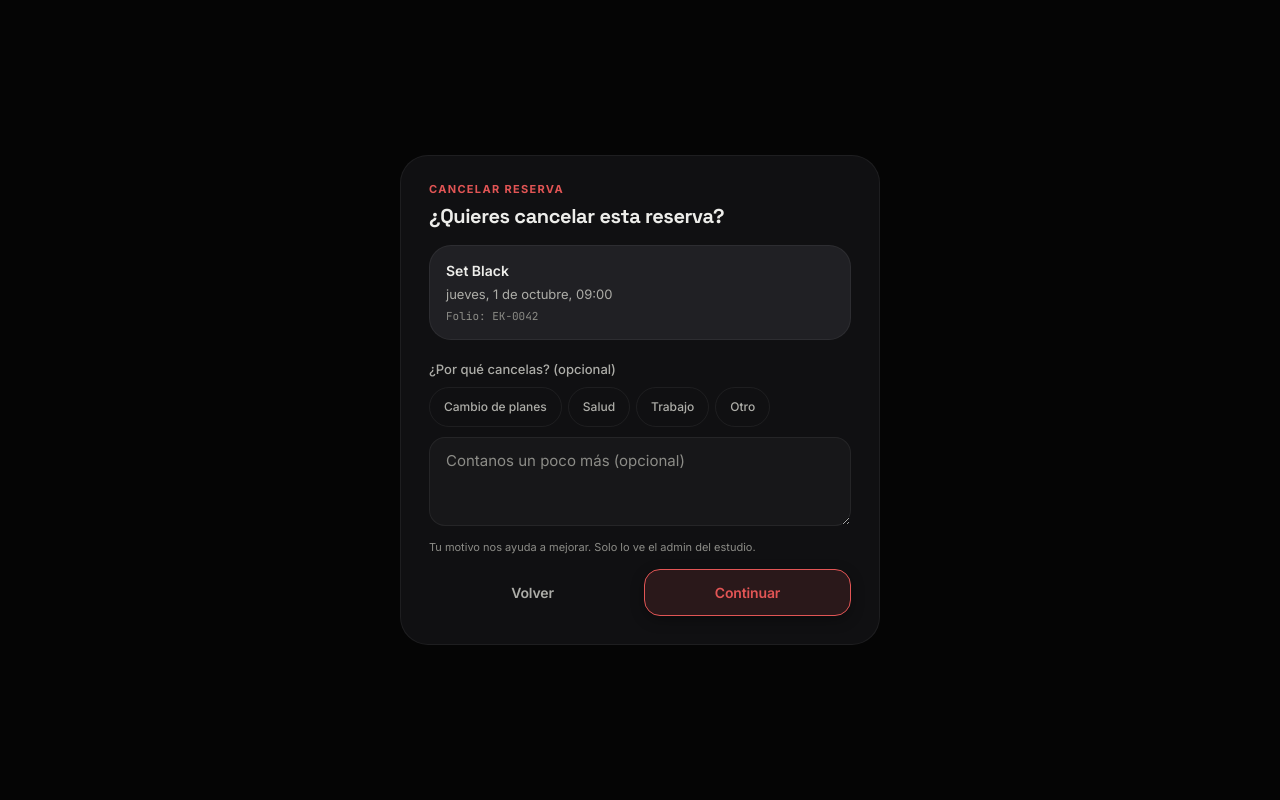
Test case: CancelarMiReservaModal · invitados extra pagados (M16) › el dato puede faltar (reservas viejas) y no truena
Click the button "Continuar" at (748, 593), box [644,569,851,616]
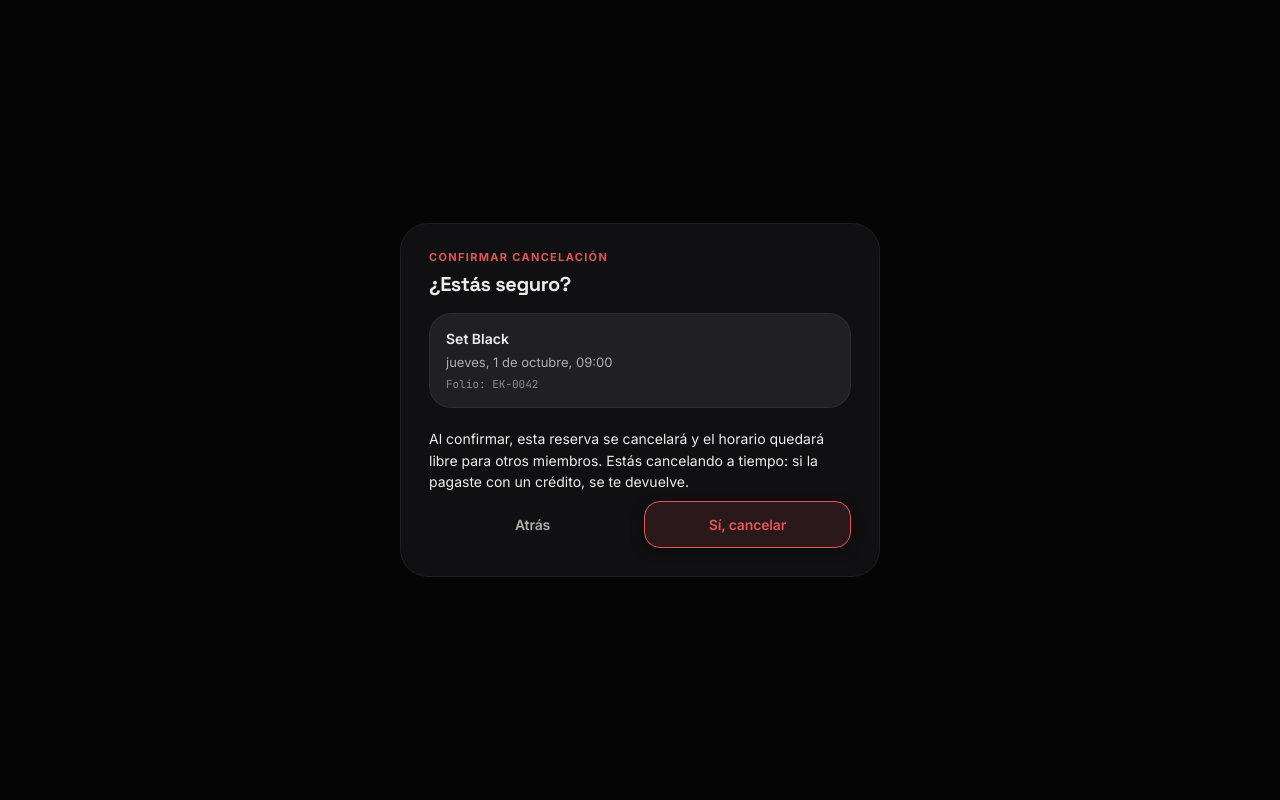
Result: the button "Sí, cancelar" is shown at [644,501,851,548]
